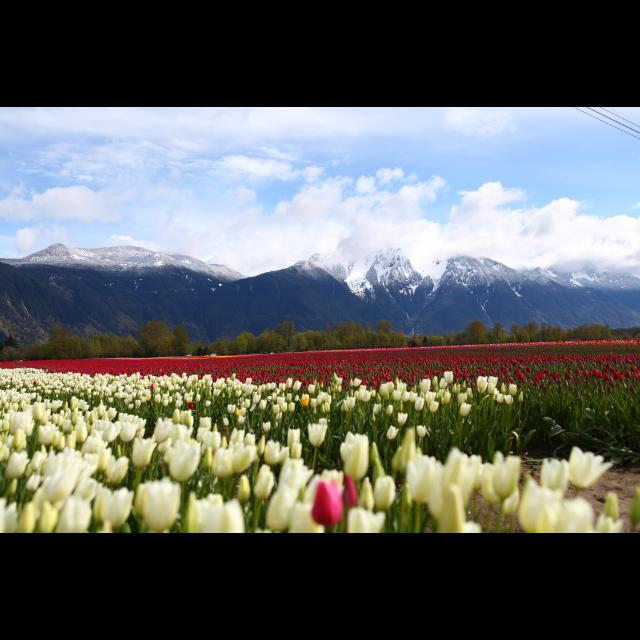Flower: (1, 343, 640, 533)
